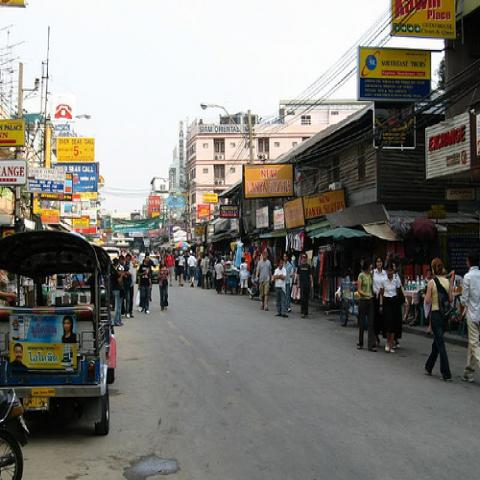car: (103, 248, 120, 264)
motorcycle: (0, 387, 32, 475), (249, 280, 257, 298)
truck: (1, 230, 120, 436)
